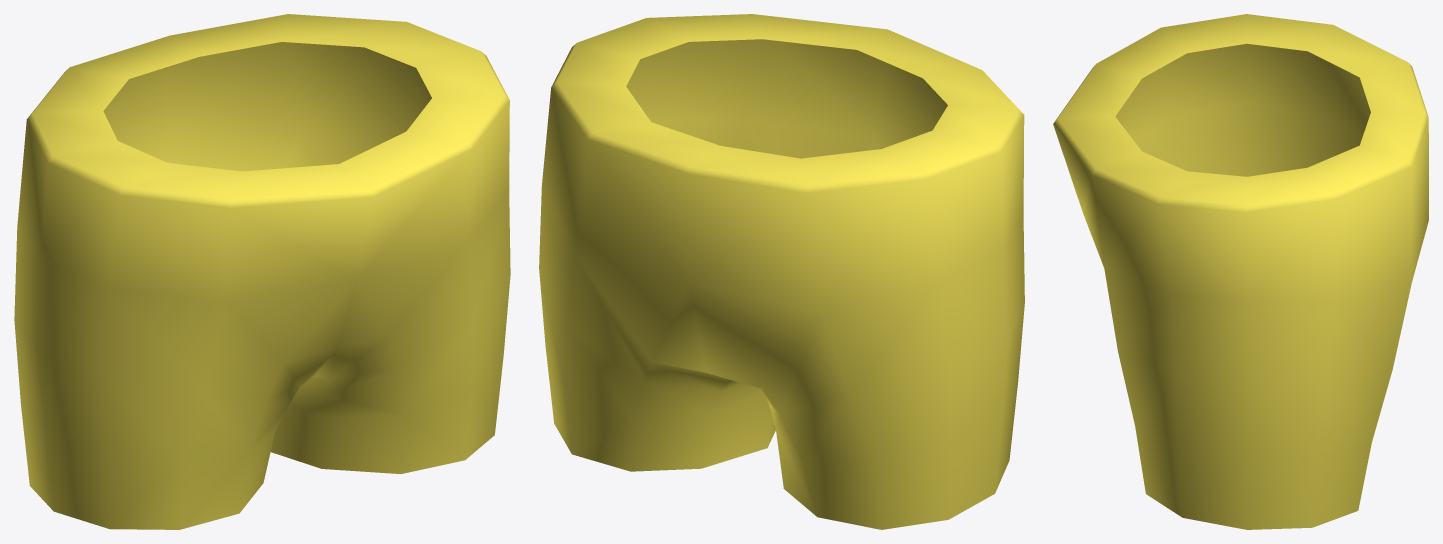
The model's file is Pants_Yellow_003.glb.
The picture shows the model from 3 angles, left to right: view 1: azimuth 30°, elevation 25°; view 2: azimuth 150°, elevation 25°; view 3: azimuth 270°, elevation 25°; orthographic projection. The views are drawn at different scales.
Visible parts, largest first — view 1: Pants_Yellow_003; view 2: Pants_Yellow_003; view 3: Pants_Yellow_003.
Part boxes in pixels (x1=…): Pants_Yellow_003: x1=14, y1=14, x2=510, y2=529; Pants_Yellow_003: x1=539, y1=14, x2=1024, y2=529; Pants_Yellow_003: x1=1053, y1=14, x2=1428, y2=529.
Size of the model in its own units: 0.4529 by 0.3473 by 0.3561.
Materials: 1 (1 with a texture image).
